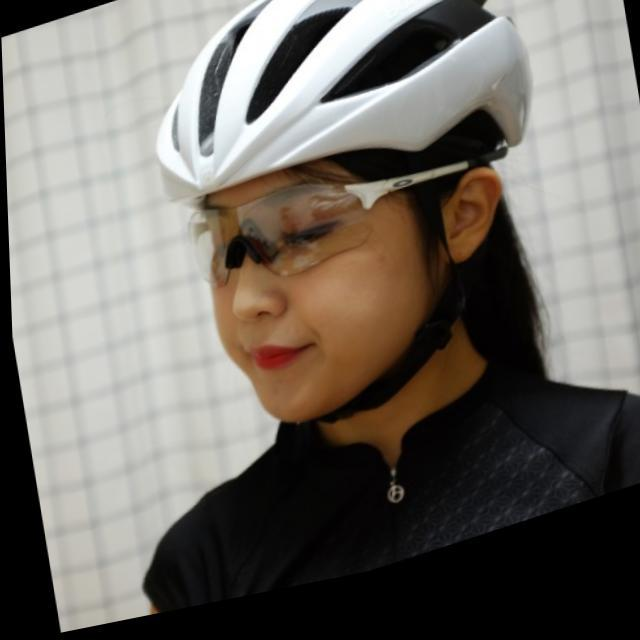Helmet: (152, 0, 549, 427)
